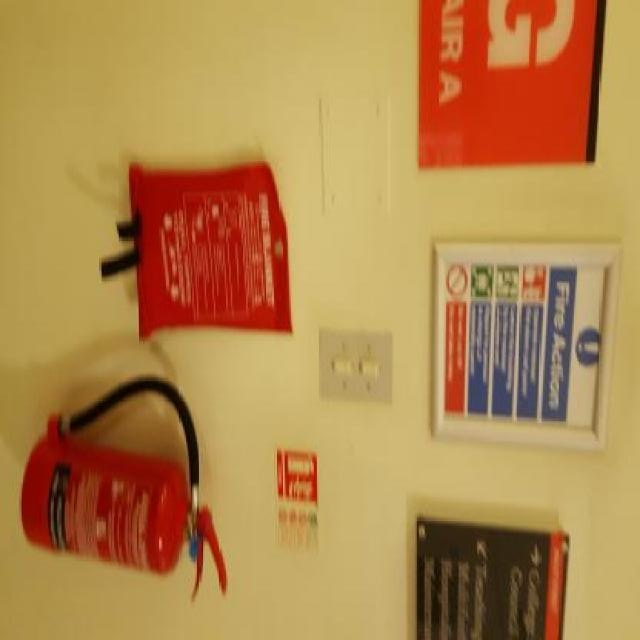fire extinguisher: (16, 371, 232, 606)
